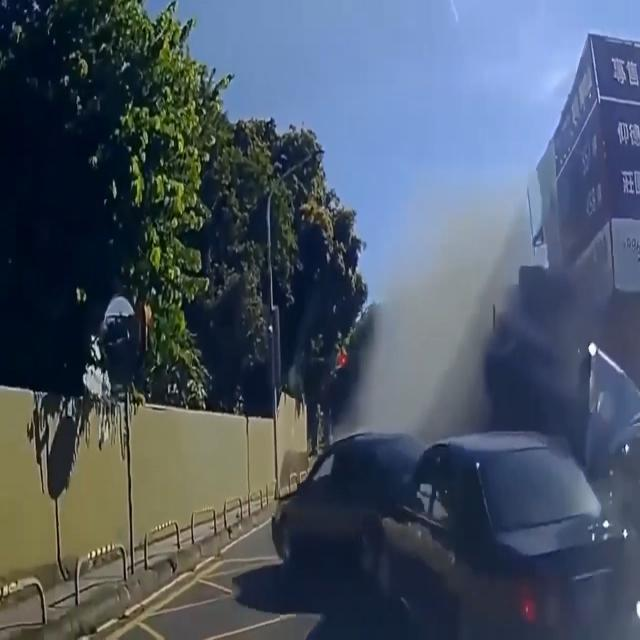accident: (256, 382, 640, 638)
